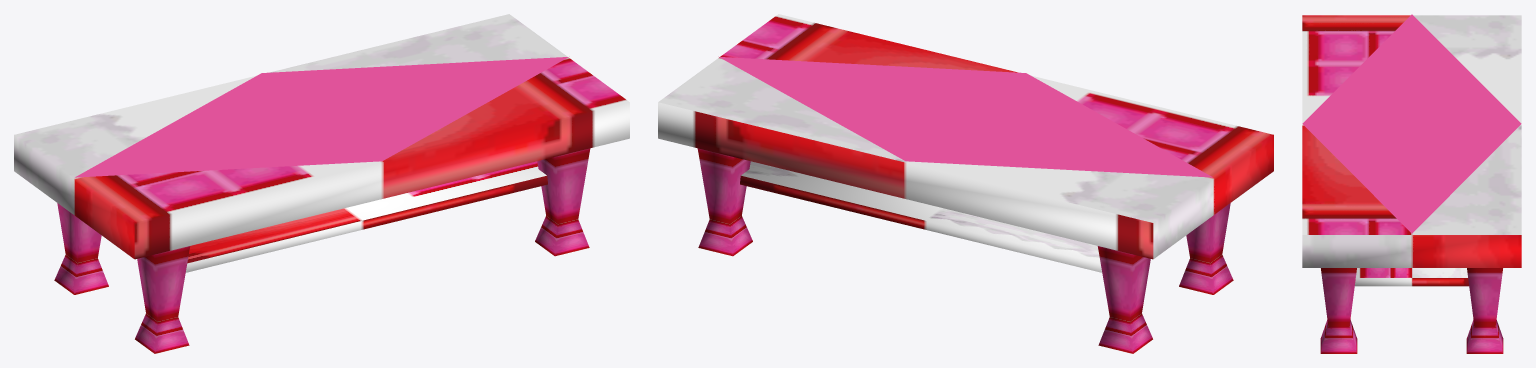
The model's file is rmk_lov_tableM.dae.
The picture shows the model from 3 angles, left to right: view 1: azimuth 30°, elevation 25°; view 2: azimuth 150°, elevation 25°; view 3: azimuth 270°, elevation 25°; orthographic projection. The views are drawn at different scales.
Parts seen in each view (by area): view 1: rmk_lov_tableM; view 2: rmk_lov_tableM; view 3: rmk_lov_tableM.
Part boxes in pixels (x1,y1,x2,y2): rmk_lov_tableM: (14, 14, 629, 353); rmk_lov_tableM: (658, 14, 1273, 353); rmk_lov_tableM: (1302, 14, 1521, 353).
Size of the model in its own units: 56.94 by 16.15 by 24.
2 materials, 2 textured.
